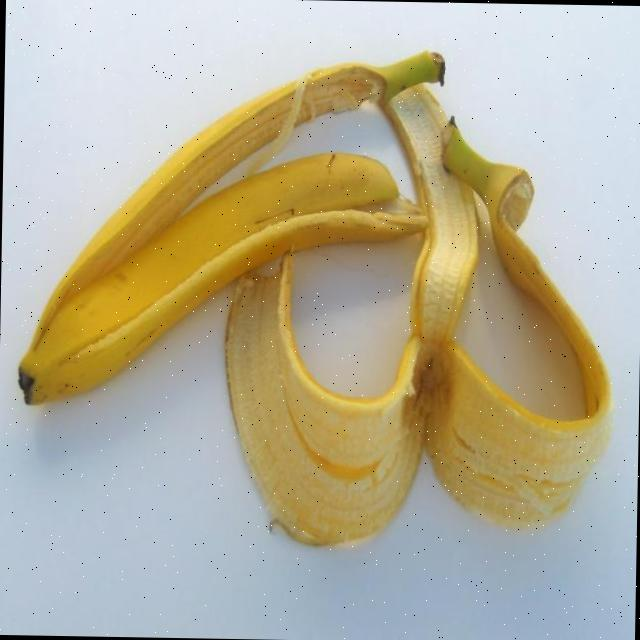banana-peel: (14, 41, 619, 551), (15, 142, 403, 412)
